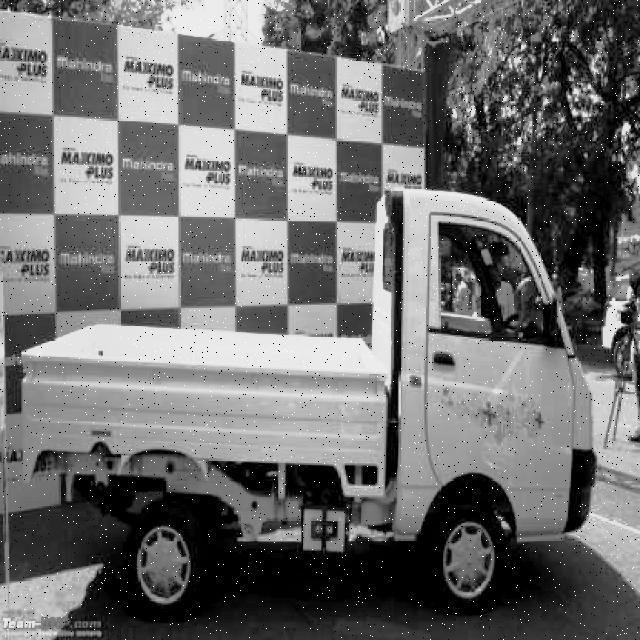LCV: (41, 197, 582, 589)
